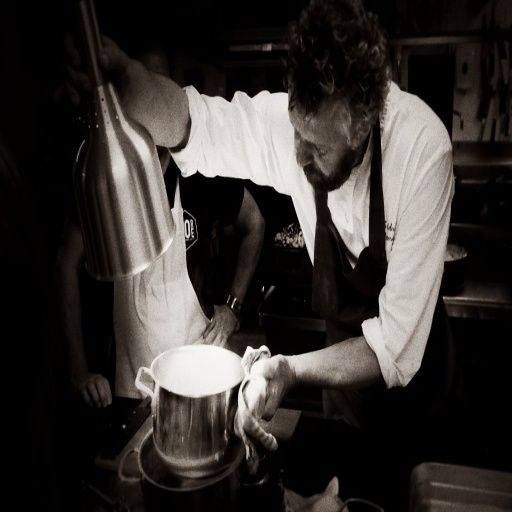hand: (249, 349, 290, 421), (204, 302, 239, 348), (77, 371, 112, 407), (99, 38, 113, 72)
